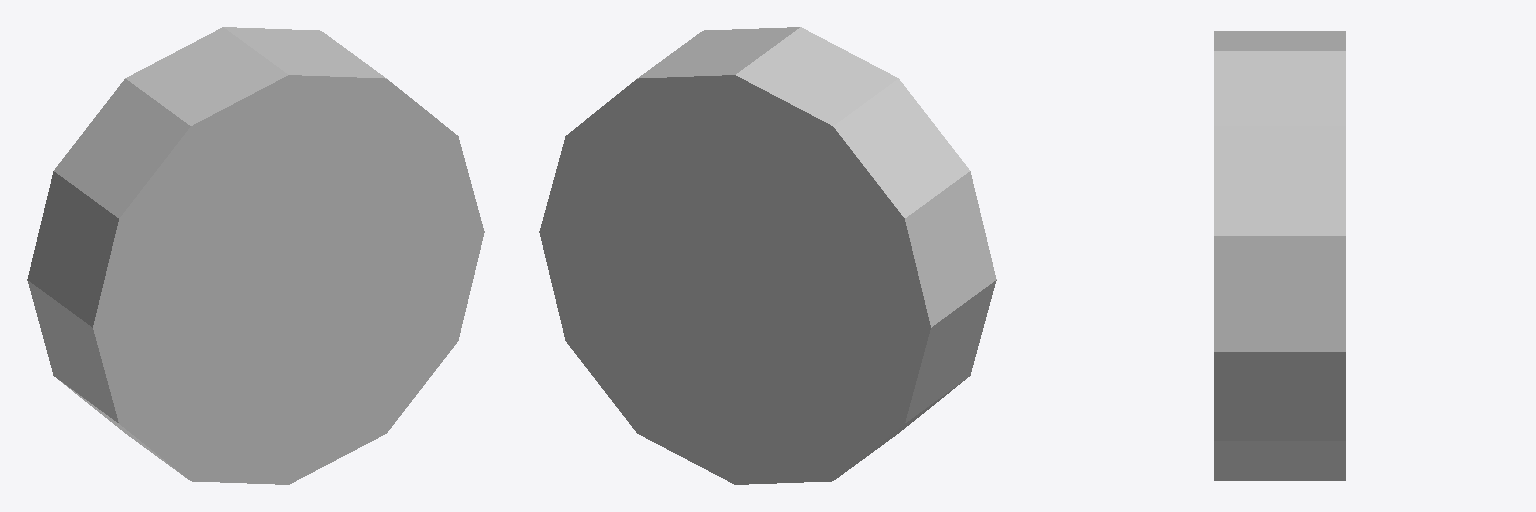
The model's file is ground_target.obj.
The picture shows the model from 3 angles: view 1: azimuth 30°, elevation 25°; view 2: azimuth 150°, elevation 25°; view 3: azimuth 270°, elevation 25°; orthographic projection.
Parts seen in each view (by area): view 1: Mesh1 Model; view 2: Mesh1 Model; view 3: Mesh1 Model.
Part boxes in pixels (x1,y1,x2,y2): Mesh1 Model: (27,27,484,484); Mesh1 Model: (539,27,996,484); Mesh1 Model: (1214,31,1345,480).
Size of the model in its own units: 7.1 by 7.1 by 2.06.